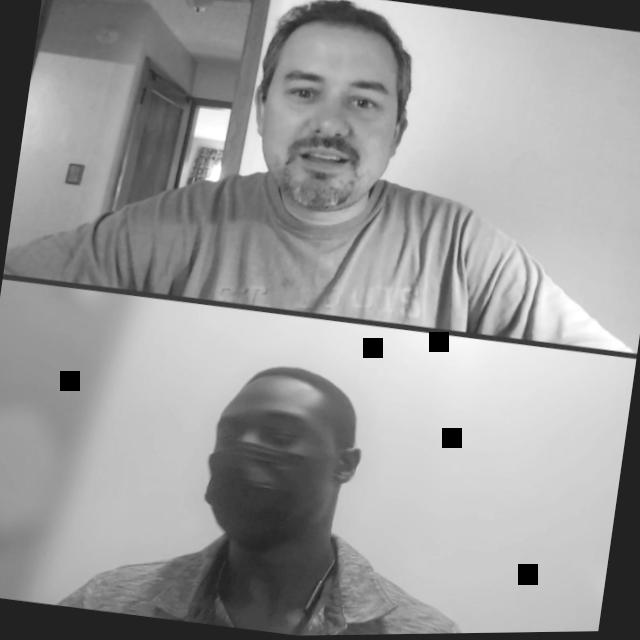Mask: (196, 365, 370, 563)
NO-Mask: (242, 1, 426, 226)
